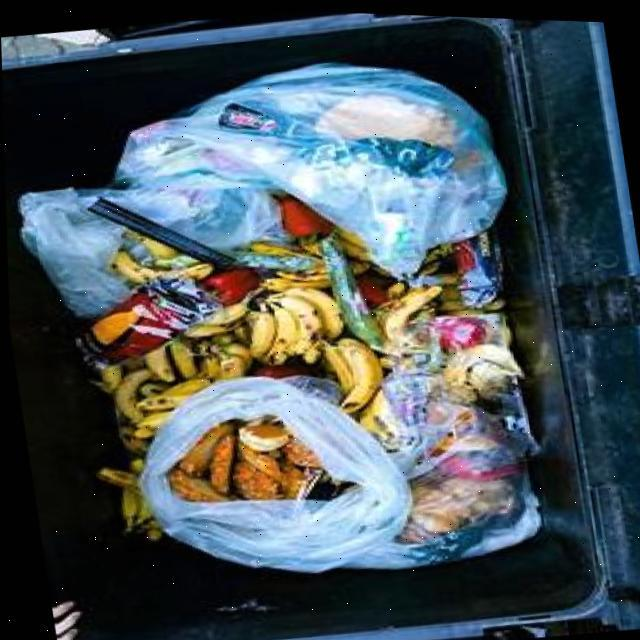Garbage: (19, 60, 536, 570)
Plastic_Bag: (18, 60, 503, 317), (135, 377, 404, 570)
